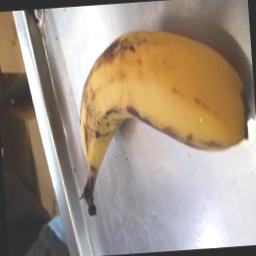Banana Overripe: (67, 21, 256, 200)
